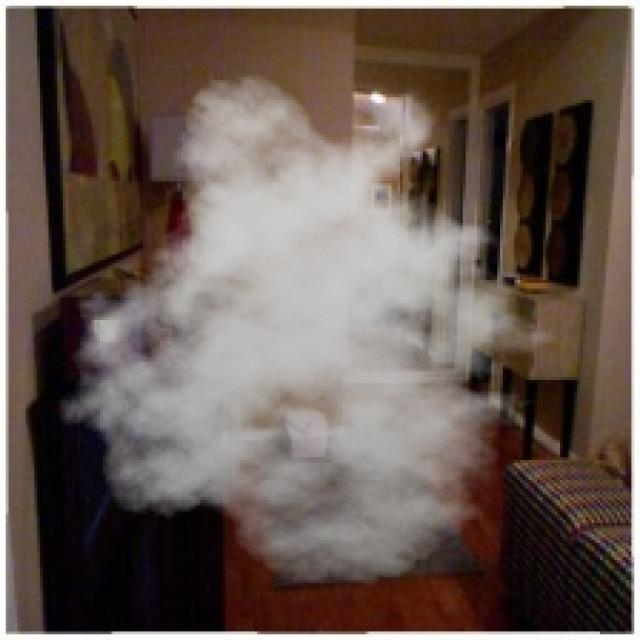Smoke: (45, 71, 578, 586)
